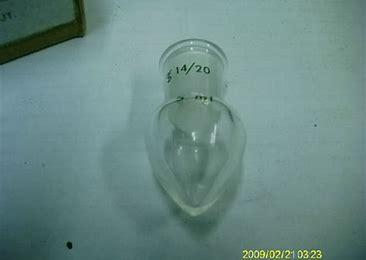Pear shaped flask: (154, 30, 244, 230)
